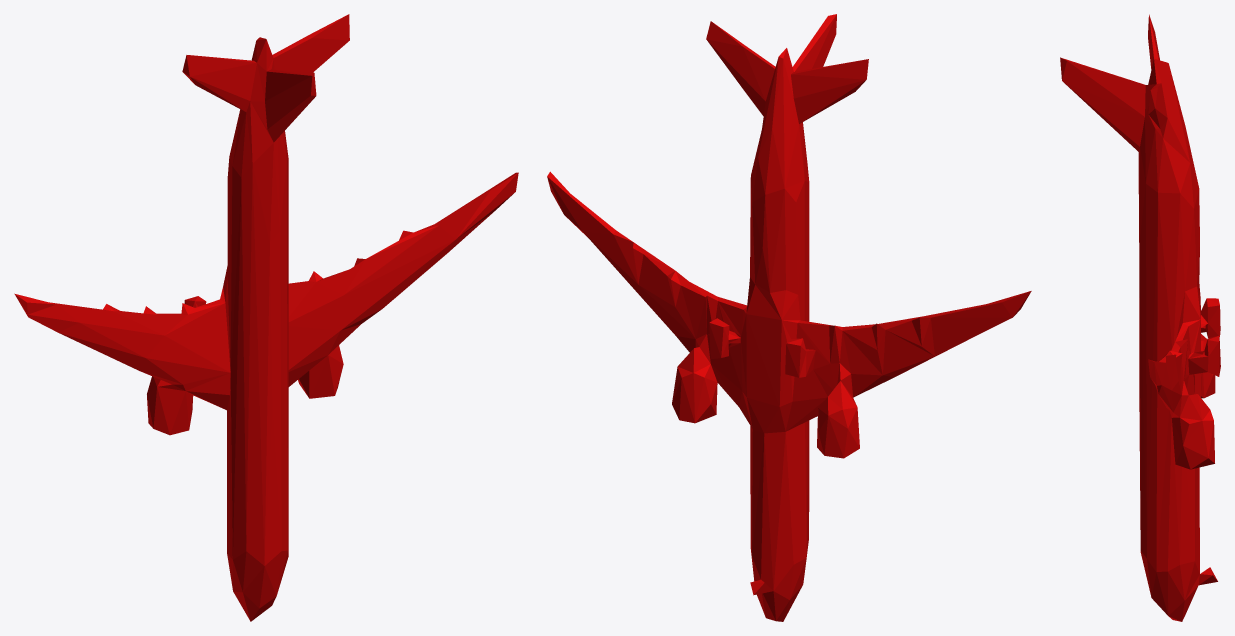
Rendered from mesh_scaled.obj.
3 views of the same model, side by side, from view 1: azimuth 30°, elevation 25°; view 2: azimuth 150°, elevation 25°; view 3: azimuth 270°, elevation 25° (orthographic). The views are drawn at different scales.
Bounding box in the file's own units: 5162 × 5841 × 1492.
